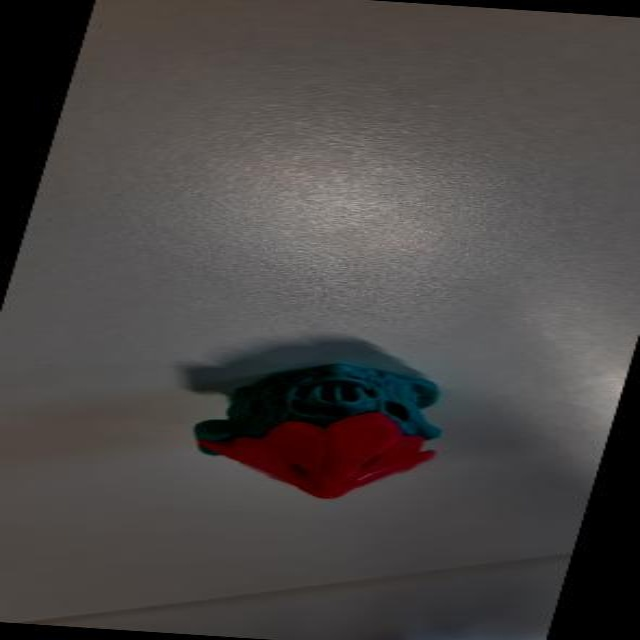House: (120, 321, 478, 515)
